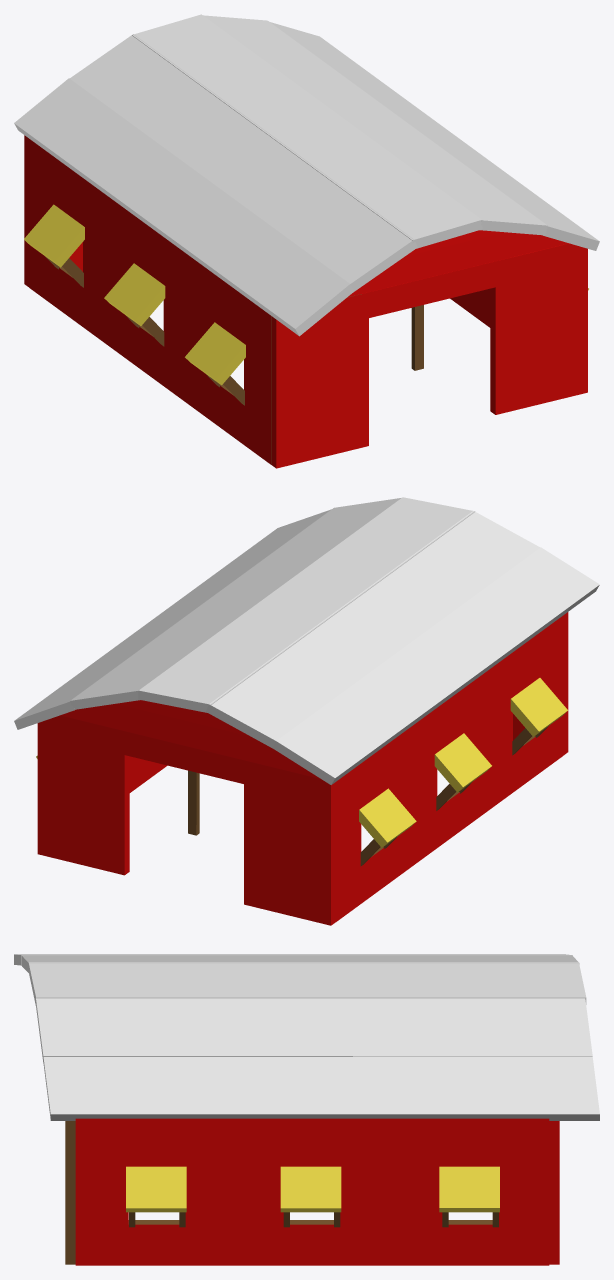
File: Barn.glb
3 views of the same model, one above another, from view 1: azimuth 30°, elevation 25°; view 2: azimuth 150°, elevation 25°; view 3: azimuth 270°, elevation 25° (orthographic). The views are drawn at different scales.
Parts seen in each view (by area): view 1: Cube; view 2: Cube; view 3: Cube.
Part boxes in pixels (left/top/right/bottom): Cube: left=14, top=14, right=599, bottom=468; Cube: left=14, top=497, right=599, bottom=925; Cube: left=14, top=954, right=599, bottom=1265.
Size of the model in its own units: 16.02 by 9.58 by 22.16.
